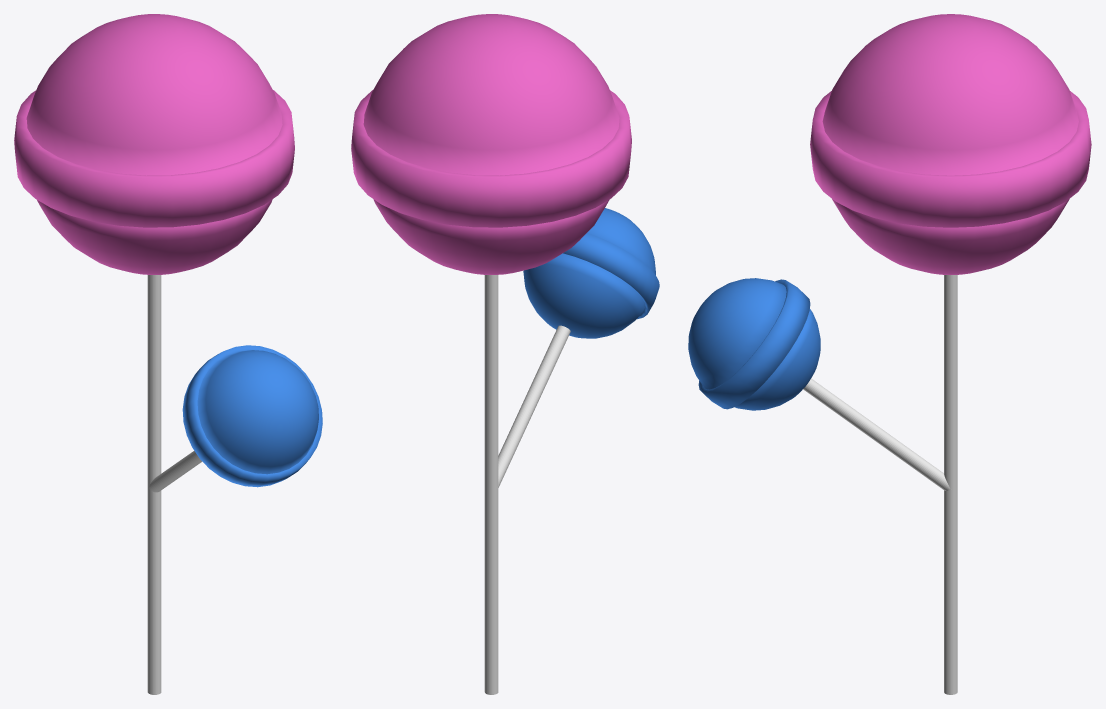
The model's file is SecondaryStoopid.fbx.
3 views of the same model, side by side, from view 1: azimuth 30°, elevation 25°; view 2: azimuth 150°, elevation 25°; view 3: azimuth 270°, elevation 25° (orthographic).
Parts seen in each view (by area): view 1: MainBall, SecondBall, MainStick, SecondStick; view 2: MainBall, SecondBall, MainStick, SecondStick; view 3: MainBall, SecondBall, MainStick, SecondStick.
Part boxes in pixels (x1,y1,x2,y2): MainBall: [14, 14, 294, 274]; SecondBall: [182, 345, 322, 487]; MainStick: [147, 275, 161, 694]; SecondStick: [148, 451, 201, 492]; MainBall: [351, 14, 631, 274]; SecondBall: [523, 208, 659, 338]; MainStick: [484, 275, 498, 694]; SecondStick: [497, 325, 570, 488]; MainBall: [810, 14, 1091, 274]; SecondBall: [688, 278, 820, 410]; MainStick: [944, 275, 957, 694]; SecondStick: [803, 378, 951, 490].
Size of the model in its own units: 6392 by 16684 by 9155.
